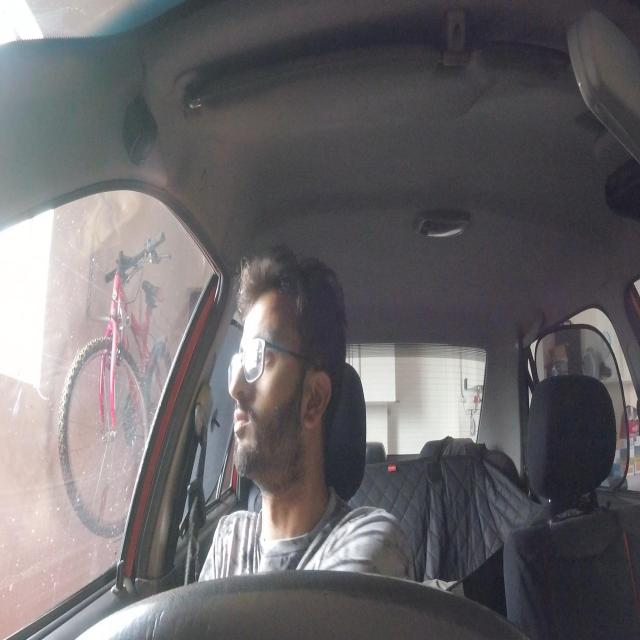open: (249, 329, 284, 388)
